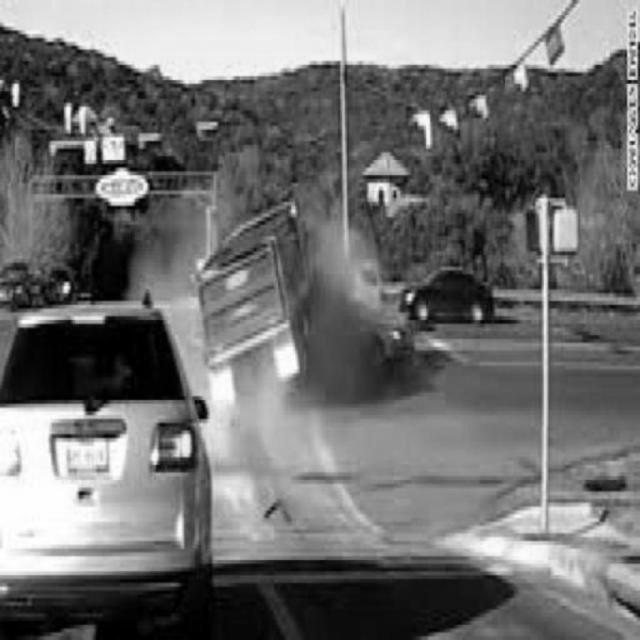accident: (192, 206, 425, 408)
vehicle: (5, 312, 222, 592), (400, 266, 503, 327)
